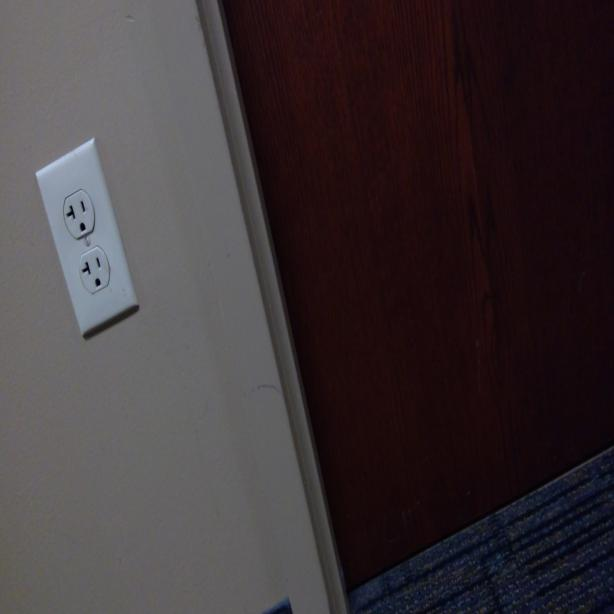typeb: (62, 185, 93, 238), (80, 251, 111, 294)
